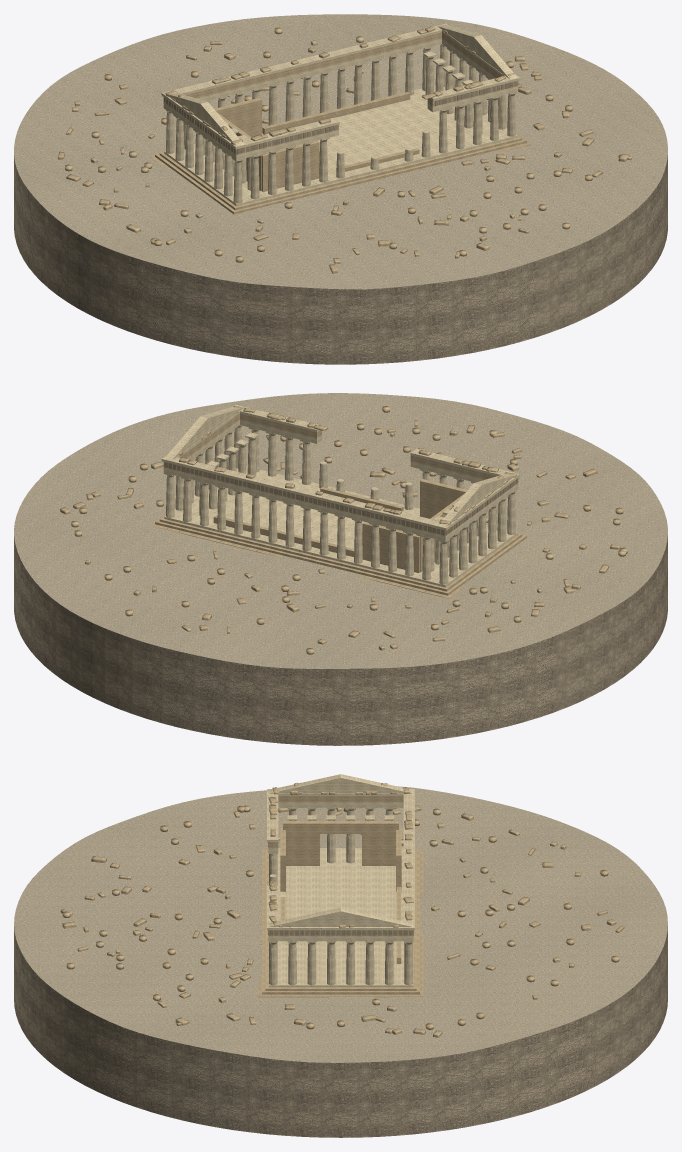
Rendered from parthenon.glb.
3 views of the same model, one above another, from view 1: azimuth 30°, elevation 25°; view 2: azimuth 150°, elevation 25°; view 3: azimuth 270°, elevation 25° (orthographic).
Parts seen in each view (by area): view 1: Parthenon; view 2: Parthenon; view 3: Parthenon.
Boxes of the visible parts, bbox=[...] form: Parthenon: bbox=[14, 14, 667, 364]; Parthenon: bbox=[14, 393, 667, 745]; Parthenon: bbox=[14, 774, 667, 1137].
Bounding box in the file's own units: 140 × 37.06 × 140.
Materials: 6 (6 with a texture image).
